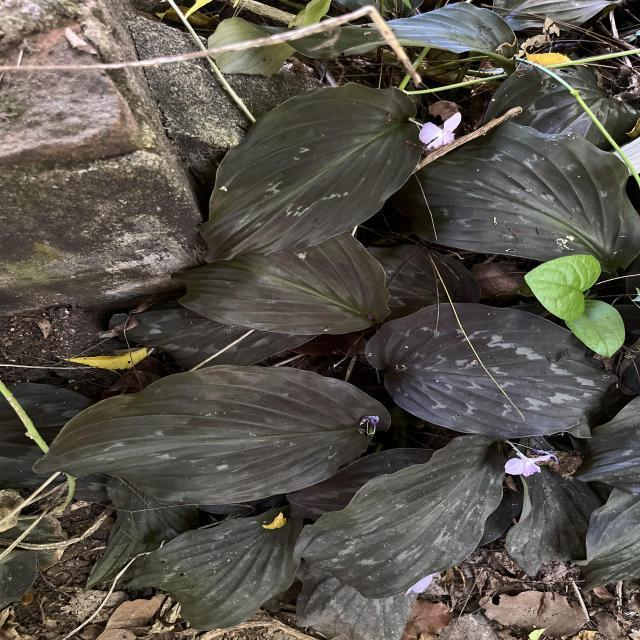Kaempferia galanga linn: (29, 362, 393, 506), (195, 79, 428, 265), (392, 117, 640, 275), (360, 300, 630, 440), (290, 432, 511, 600), (168, 228, 394, 338), (118, 504, 305, 632)
